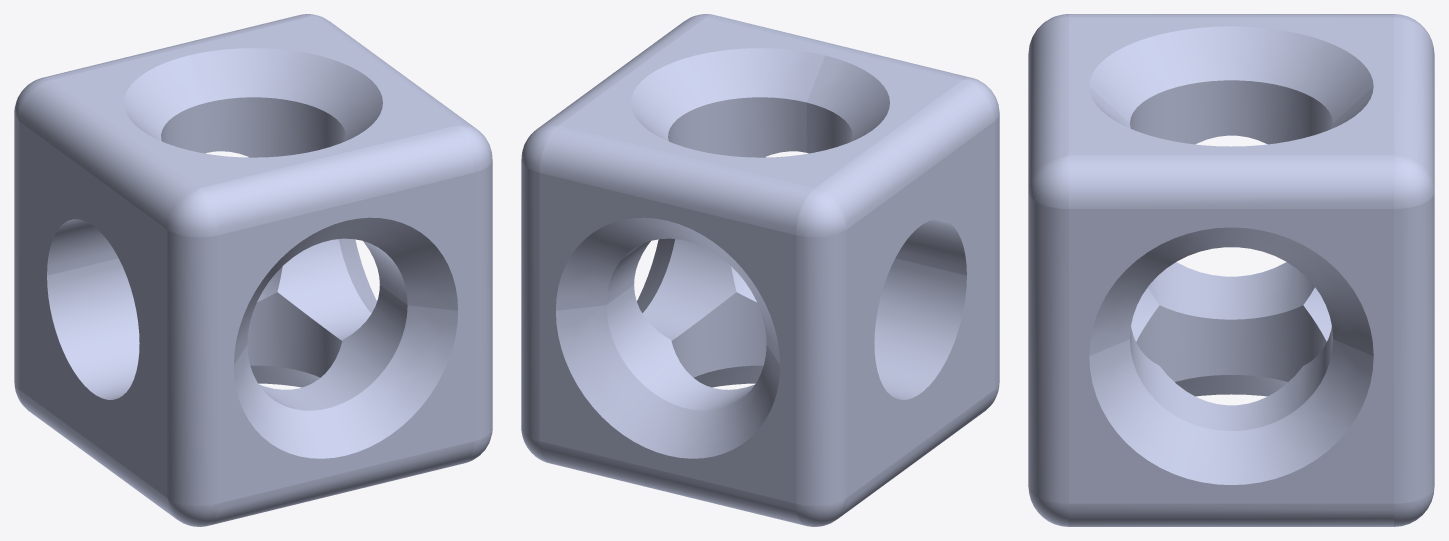
The picture shows the model from 3 angles, left to right: view 1: azimuth 30°, elevation 25°; view 2: azimuth 150°, elevation 25°; view 3: azimuth 270°, elevation 25°; orthographic projection. The views are drawn at different scales.
Visible parts, largest first — view 1: empty_2; view 2: empty_2; view 3: empty_2.
Part boxes in pixels (x1,y1,x2,y2): empty_2: [14, 14, 492, 526]; empty_2: [521, 14, 999, 526]; empty_2: [1028, 14, 1434, 526].
Size of the model in its own units: 100 by 100 by 100.
